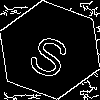S: (25, 25, 77, 81)
